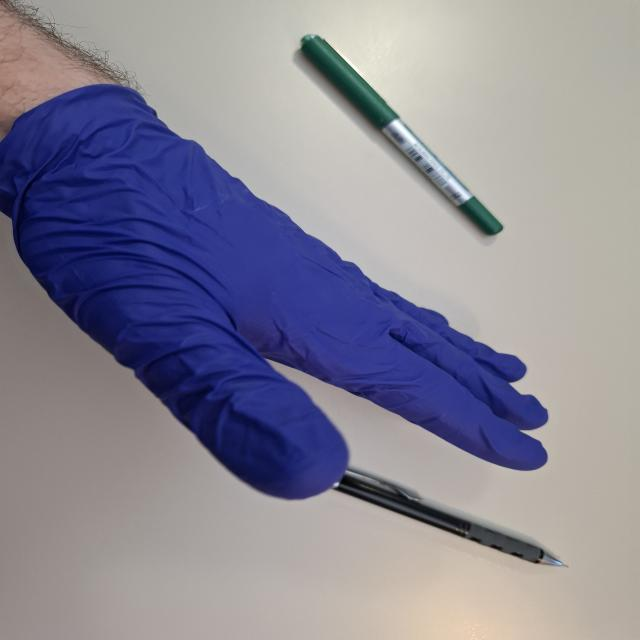glove_on: (0, 80, 556, 503)
